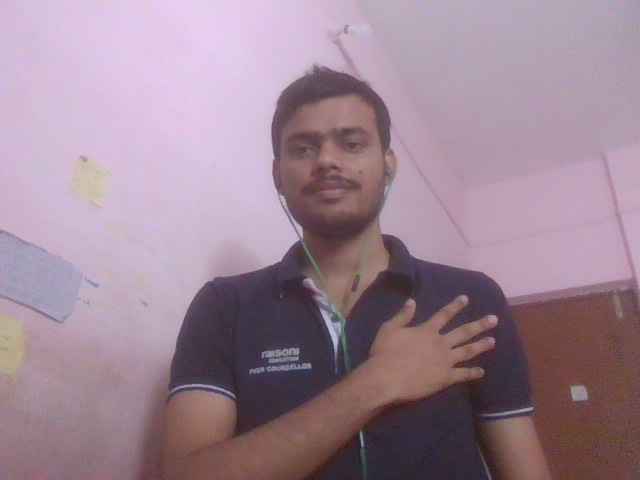Please: (297, 277, 551, 420)
